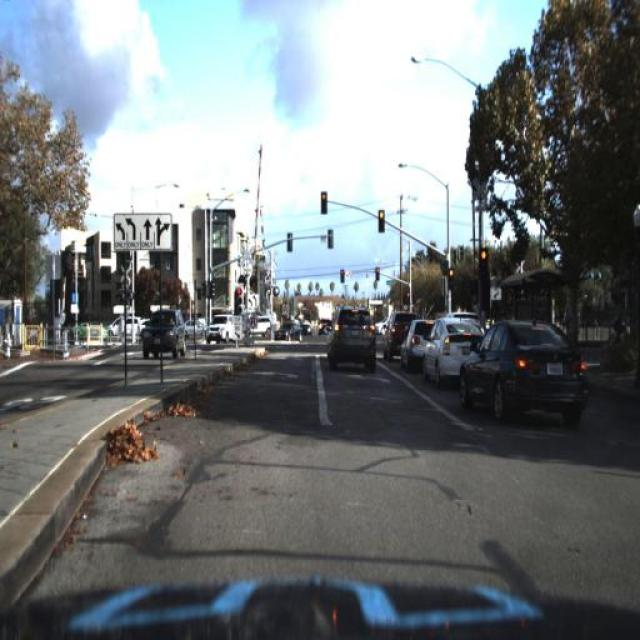car: (460, 320, 596, 431), (418, 312, 479, 383), (325, 307, 377, 373), (423, 317, 461, 392), (136, 306, 186, 356), (380, 304, 410, 365), (402, 316, 429, 376), (398, 318, 424, 372), (206, 310, 236, 346), (382, 310, 400, 362), (205, 316, 236, 346), (280, 316, 310, 346), (106, 314, 144, 336), (277, 316, 302, 342), (185, 313, 205, 341)
trafficLight: (630, 302, 640, 352)
trafficLight-RedLeft: (230, 281, 246, 319), (478, 244, 493, 282), (444, 264, 457, 298), (336, 256, 349, 288), (374, 202, 387, 232), (236, 280, 247, 314), (376, 207, 386, 235), (446, 262, 456, 289), (370, 262, 380, 288), (373, 256, 383, 282), (339, 263, 349, 288), (319, 187, 330, 209), (478, 241, 488, 264), (405, 286, 413, 304)
trafficLight-Yellow: (319, 190, 329, 214)
